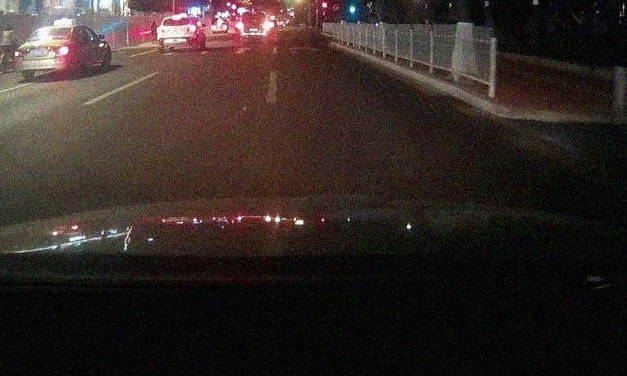L_light: (14, 49, 29, 58), (157, 27, 165, 33)
R_light: (50, 46, 69, 55), (185, 26, 197, 32)
T_light: (50, 28, 61, 31), (172, 17, 181, 20)
night-brake: (157, 14, 200, 51)
night-right: (14, 25, 74, 78)
